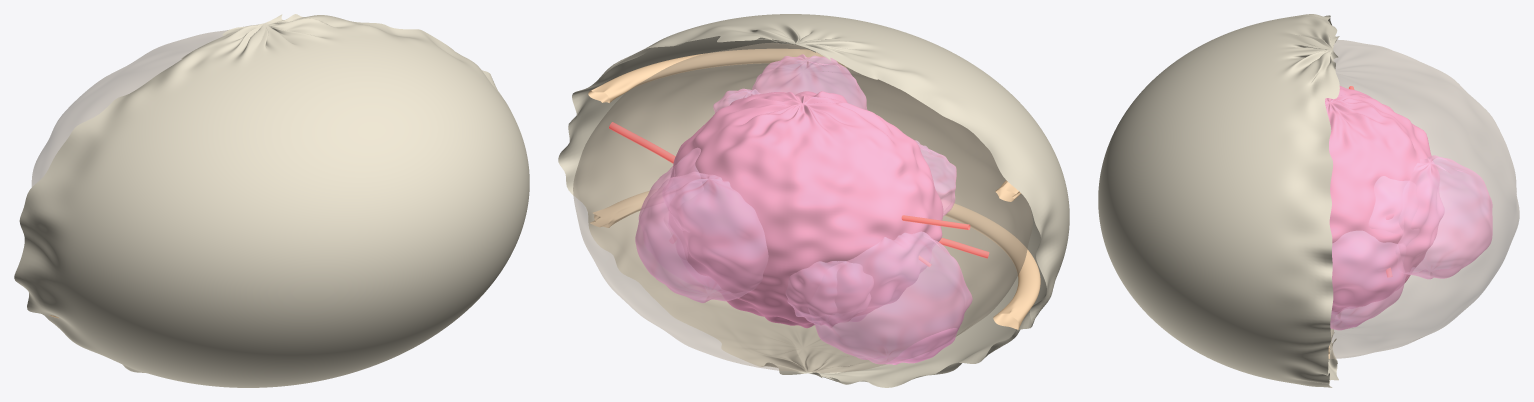
The model's file is tumor.glb.
The picture shows the model from 3 angles, left to right: view 1: azimuth 30°, elevation 25°; view 2: azimuth 150°, elevation 25°; view 3: azimuth 270°, elevation 25°; orthographic projection. The views are drawn at different scales.
Parts seen in each view (by area): view 1: Bone_Shell, Tumor_Capsule; view 2: Tumor_Capsule, Bone_Shell, Tumor_Central, Lobule_4, Lobule_2, Lobule_3, Eroded_Rim_Bottom, Eroded_Rim_Top, Lobule_7, Lobule_6, Lobule_1, Lobule_0 (+2 smaller); view 3: Bone_Shell, Tumor_Capsule, Tumor_Central, Lobule_2, Lobule_0, Lobule_1.
Part boxes in pixels (x1,y1,x2,y2): Bone_Shell: (14,14,529,387); Tumor_Capsule: (31,25,255,186); Tumor_Capsule: (573,42,1032,372); Bone_Shell: (558,14,1069,387); Tumor_Central: (669,91,943,328); Lobule_4: (808,231,972,364); Lobule_2: (635,171,768,302); Lobule_3: (786,261,873,327); Eroded_Rim_Bottom: (590,191,1040,329); Eroded_Rim_Top: (588,48,1020,201); Lobule_7: (751,54,867,109); Lobule_6: (915,140,956,216); Lobule_1: (669,148,703,231); Lobule_0: (638,166,687,259); Bone_Shell: (1098,14,1339,387); Tumor_Capsule: (1325,39,1519,358); Tumor_Central: (1325,86,1444,311); Lobule_2: (1396,155,1492,279); Lobule_0: (1330,231,1405,330); Lobule_1: (1369,176,1418,245).
Size of the model in its own units: 2.61 by 1.71 by 2.09.
